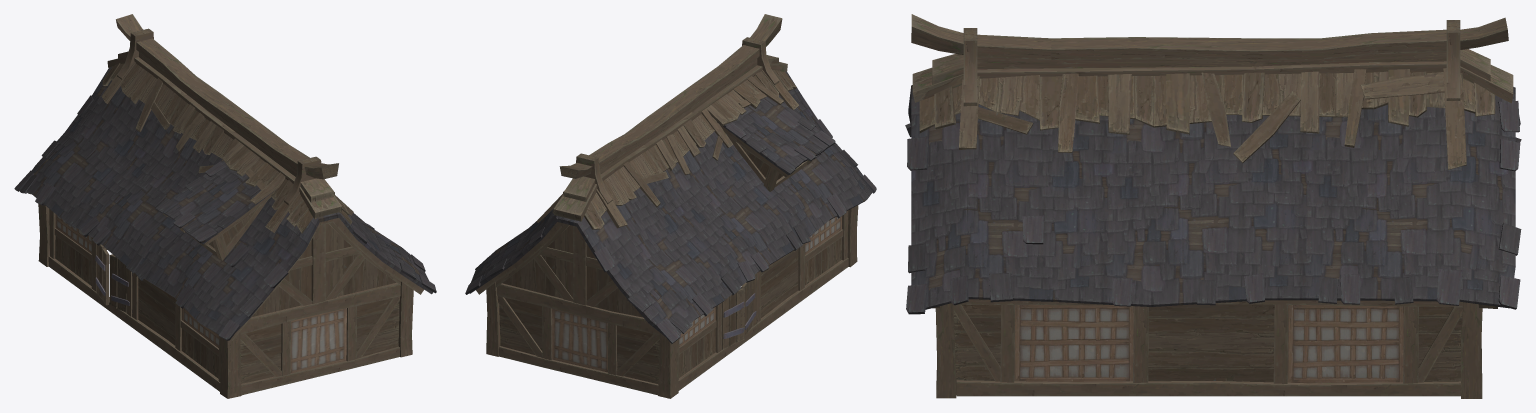
The model's file is Homeworld_Exterior_Dq_Build_House_18_Lod0.fbx.
3 renders of one model, left to right at view 1: azimuth 30°, elevation 25°; view 2: azimuth 150°, elevation 25°; view 3: azimuth 270°, elevation 25°, orthographic. The views are drawn at different scales.
Visible parts, largest first — view 1: Area_Dq_Build_SWZ_LuXin_04_Lod0; view 2: Area_Dq_Build_SWZ_LuXin_04_Lod0; view 3: Area_Dq_Build_SWZ_LuXin_04_Lod0.
Part boxes in pixels (x1=…): Area_Dq_Build_SWZ_LuXin_04_Lod0: x1=14, y1=14, x2=436, y2=398; Area_Dq_Build_SWZ_LuXin_04_Lod0: x1=465, y1=14, x2=876, y2=398; Area_Dq_Build_SWZ_LuXin_04_Lod0: x1=905, y1=14, x2=1521, y2=398.
Bounding box in the file's own units: 6.2 × 5.68 × 10.09.
